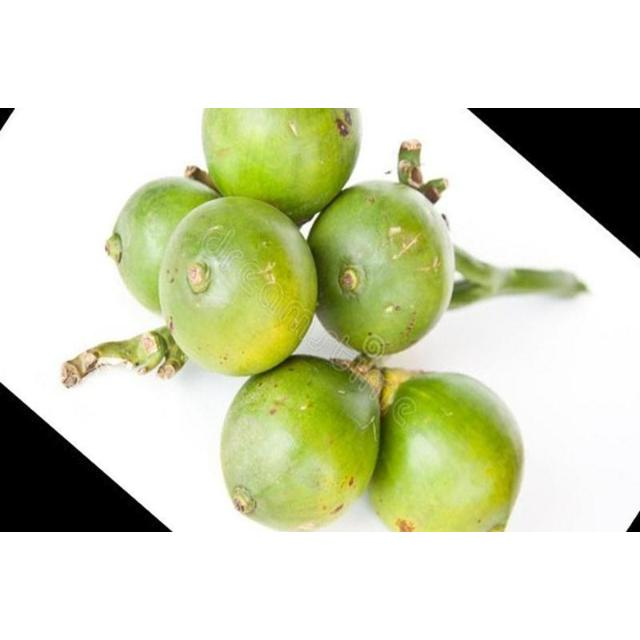good: (222, 356, 382, 532), (160, 198, 318, 376), (308, 179, 452, 357), (369, 370, 525, 530), (204, 108, 360, 224), (108, 176, 220, 314)
